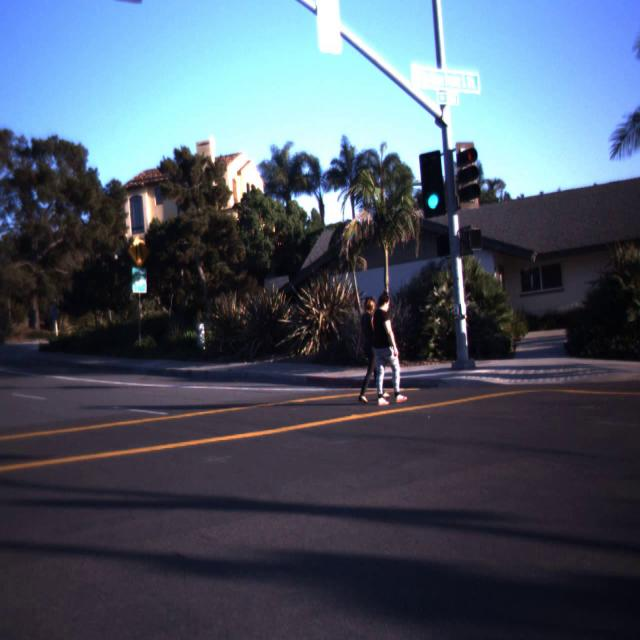yesil: (419, 150, 446, 217)
